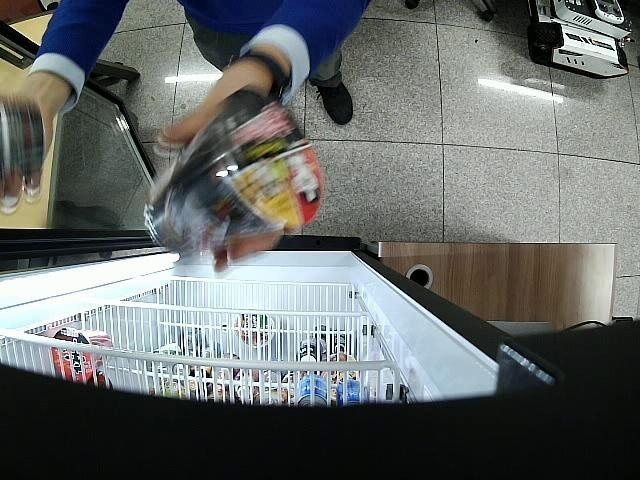08_buldak_S: (144, 90, 323, 255), (2, 96, 46, 181)
